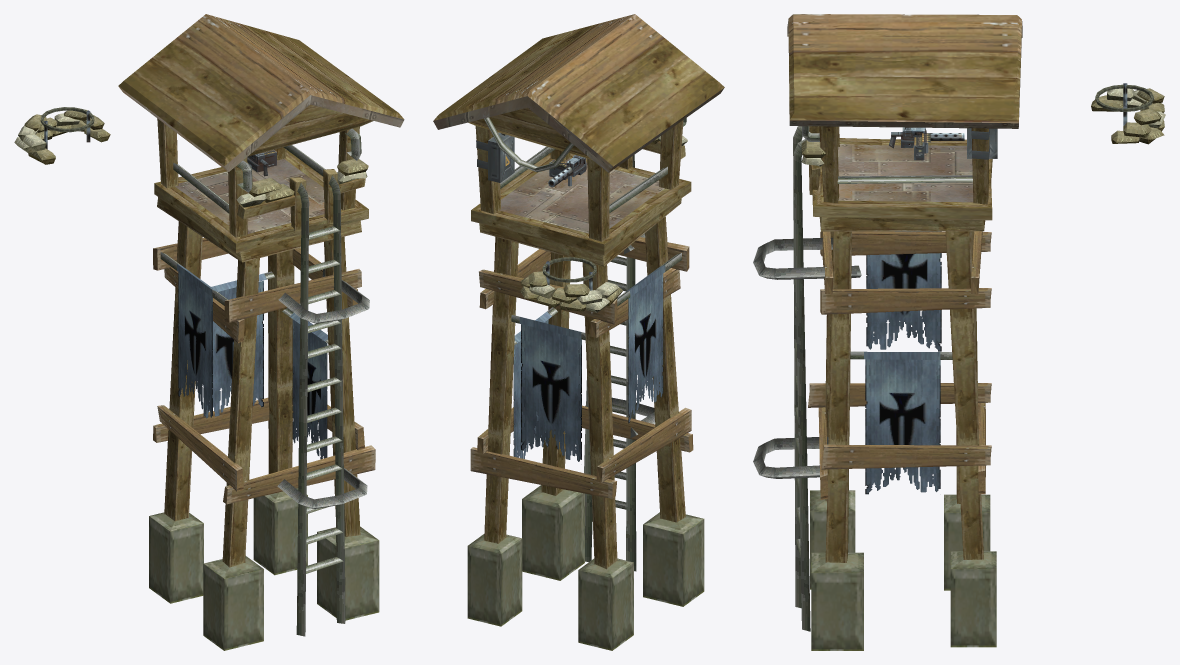
The model's file is C1SMGULAGTOWERMG.bgf.obj.
3 renders of one model, left to right at view 1: azimuth 30°, elevation 25°; view 2: azimuth 150°, elevation 25°; view 3: azimuth 270°, elevation 25°, orthographic. The views are drawn at different scales.
Parts seen in each view (by area): view 1: C1SMGULAGTOWERMG, FRAG07, FRAG02, FRAG01, FRAG14, FRAG09, FRAG08, FRAG16, FRAG15, FRAG06, FRAG10, FRAG11 (+12 smaller); view 2: C1SMGULAGTOWERMG, FRAG07, FRAG02, FRAG15, FRAG01, FRAG14, FRAG12, FRAG04, FRAG10, FRAG05, FRAG24, FRAG06 (+12 smaller); view 3: FRAG01, C1SMGULAGTOWERMG, FRAG02, FRAG16, FRAG14, FRAG12, FRAG17, FRAG11, FRAG22, FRAG09, FRAG19, FRAG23 (+9 smaller).
Boxes of the visible parts, x1,y1,x2,y2 form: C1SMGULAGTOWERMG: (149,322,379,650); FRAG07: (118,14,310,171); FRAG02: (154,150,368,262); FRAG01: (206,14,404,142); FRAG14: (160,252,228,417); FRAG09: (307,169,343,452); FRAG08: (289,177,340,435); FRAG16: (282,307,328,459); FRAG15: (203,271,274,418); FRAG06: (228,157,295,237); FRAG10: (230,258,259,414); FRAG11: (324,236,355,446); C1SMGULAGTOWERMG: (467,365,704,650); FRAG07: (518,14,724,172); FRAG02: (471,153,691,266); FRAG15: (511,315,585,461); FRAG01: (433,14,634,164); FRAG14: (616,252,681,423); FRAG12: (489,236,518,420); FRAG04: (475,126,514,214); FRAG10: (645,216,675,368); FRAG05: (587,158,609,241); FRAG24: (551,282,622,312); FRAG06: (643,118,687,189); FRAG01: (788,14,1021,128); C1SMGULAGTOWERMG: (753,308,996,650); FRAG02: (812,138,992,231); FRAG16: (850,351,952,494); FRAG14: (866,231,941,351); FRAG12: (945,231,978,420); FRAG17: (820,288,991,314); FRAG11: (828,231,851,444); FRAG22: (821,444,991,469); FRAG09: (793,139,819,442); FRAG19: (820,231,991,256); FRAG23: (801,126,839,203).
Size of the model in its own units: 8.87 by 20.5 by 12.9.
Materials: 53 (53 with a texture image).
